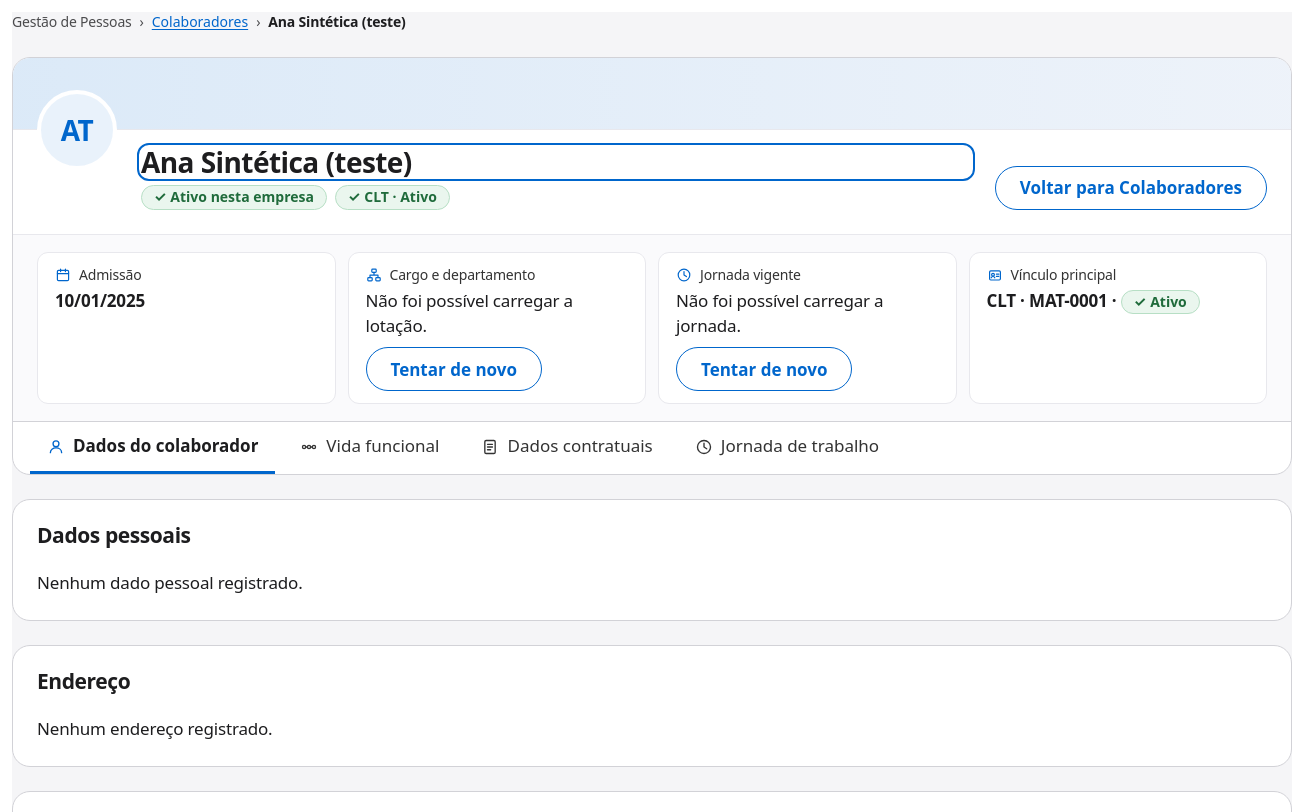
Scenario: T198 — cabeçalho da ficha › falha na lotação ou na jornada: aviso no próprio item e 'Tentar de novo'
This screenshot has width=1292, height=812.
Expected: the element named "Seções da ficha de " is shown, [13, 421, 1291, 474]
Expected: the text "Não foi possível carregar a lotação." is shown, [366, 289, 573, 337]
Click the button "Tentar de novo" below "Não foi possível carregar a lotação." at (454, 369), box [366, 347, 542, 391]
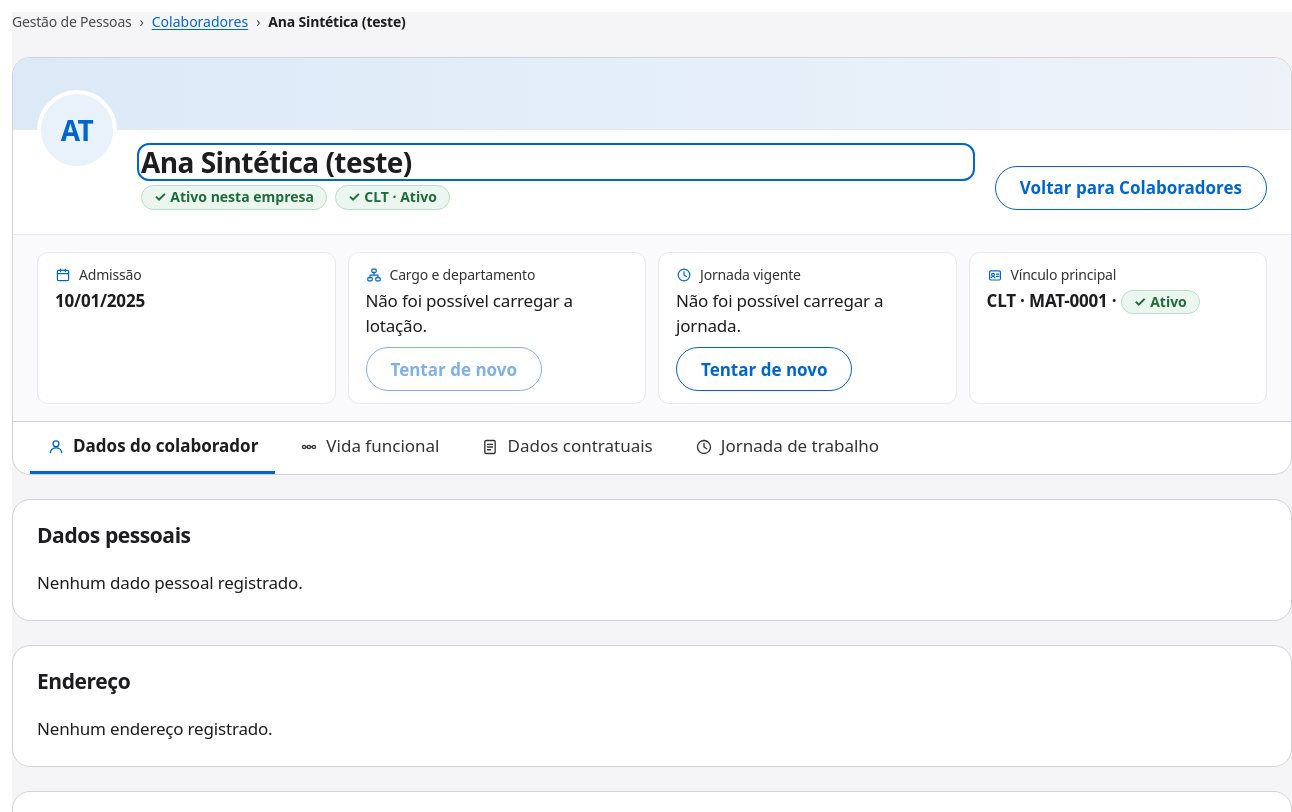
Click the button "Tentar de novo" below "Não foi possível carregar a jornada." at (764, 369), box [676, 347, 852, 391]
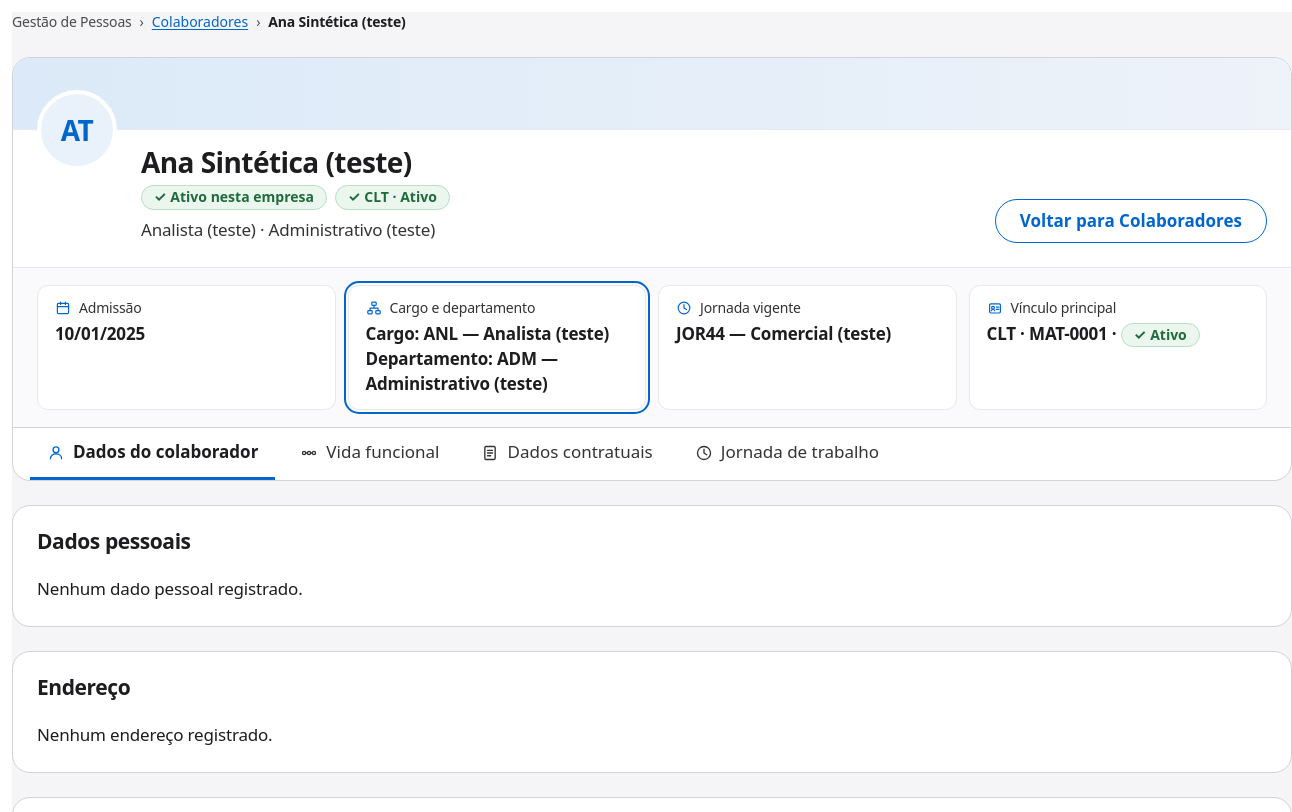
Result: the header with class "ficha-colaborador__cabecalho" shows "Cargo: ANL — Analista (teste)" at [13, 58, 1291, 427]
Result: the text "JOR44 — Comercial (teste)" is shown at [676, 322, 891, 345]
